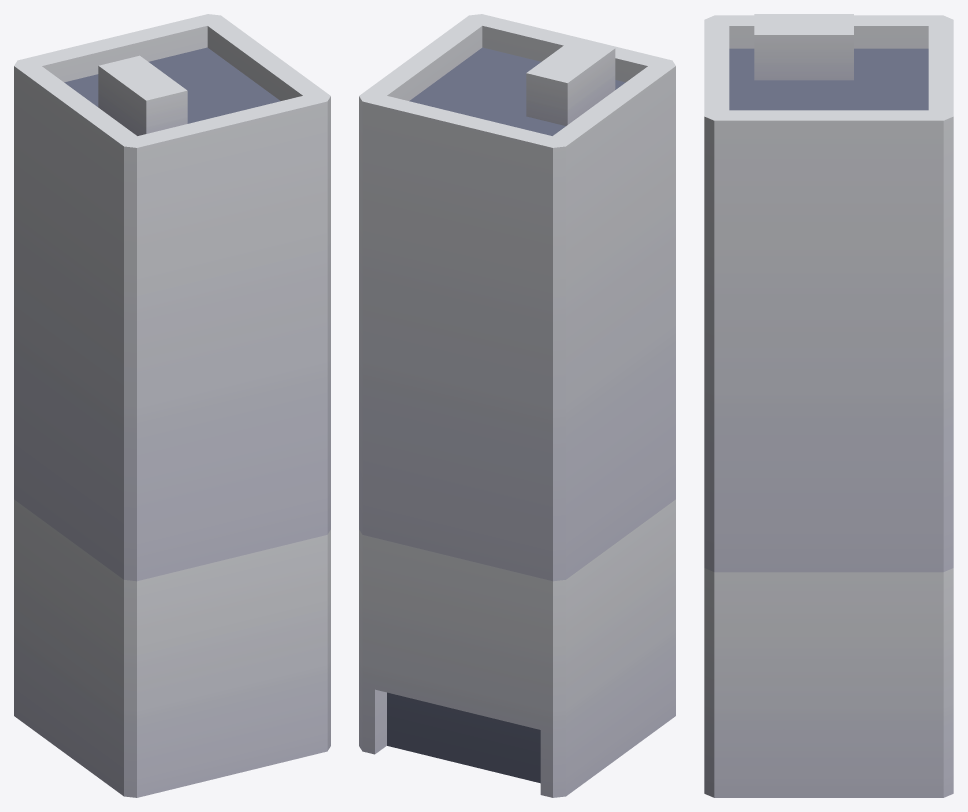
File: commercial__low-detail-building-k.glb
3 renders of one model, left to right at view 1: azimuth 30°, elevation 25°; view 2: azimuth 150°, elevation 25°; view 3: azimuth 270°, elevation 25°, orthographic. The views are drawn at different scales.
Parts seen in each view (by area): view 1: low-detail-building-k; view 2: low-detail-building-k; view 3: low-detail-building-k.
Boxes of the visible parts, x1,y1,x2,y2 form: low-detail-building-k: (14, 14, 330, 797); low-detail-building-k: (359, 14, 675, 797); low-detail-building-k: (704, 14, 953, 797).
Size of the model in its own units: 0.5 by 1.55 by 0.5.
1 material, 1 textured.
